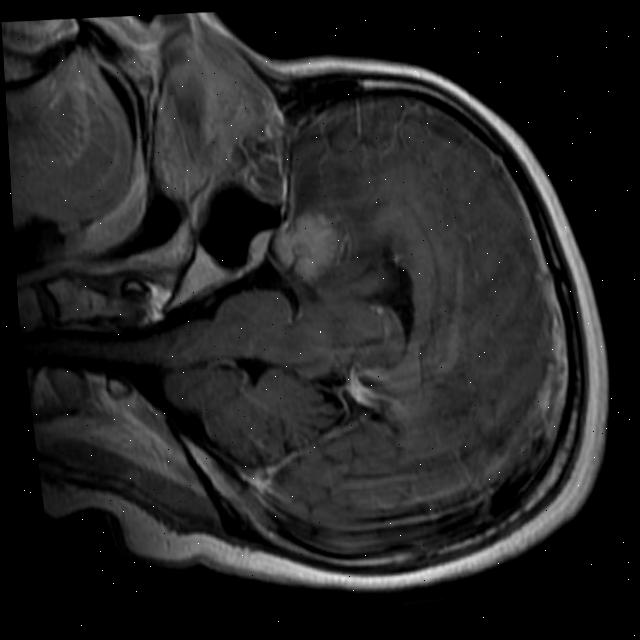Meningioma: (269, 205, 349, 286)
